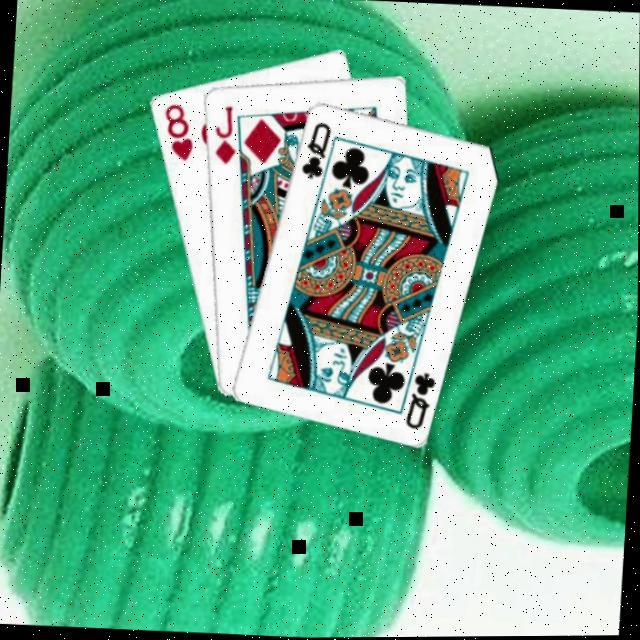8H: (159, 101, 198, 166)
JD: (211, 103, 242, 168)
QC: (403, 369, 439, 434), (298, 120, 334, 184)
